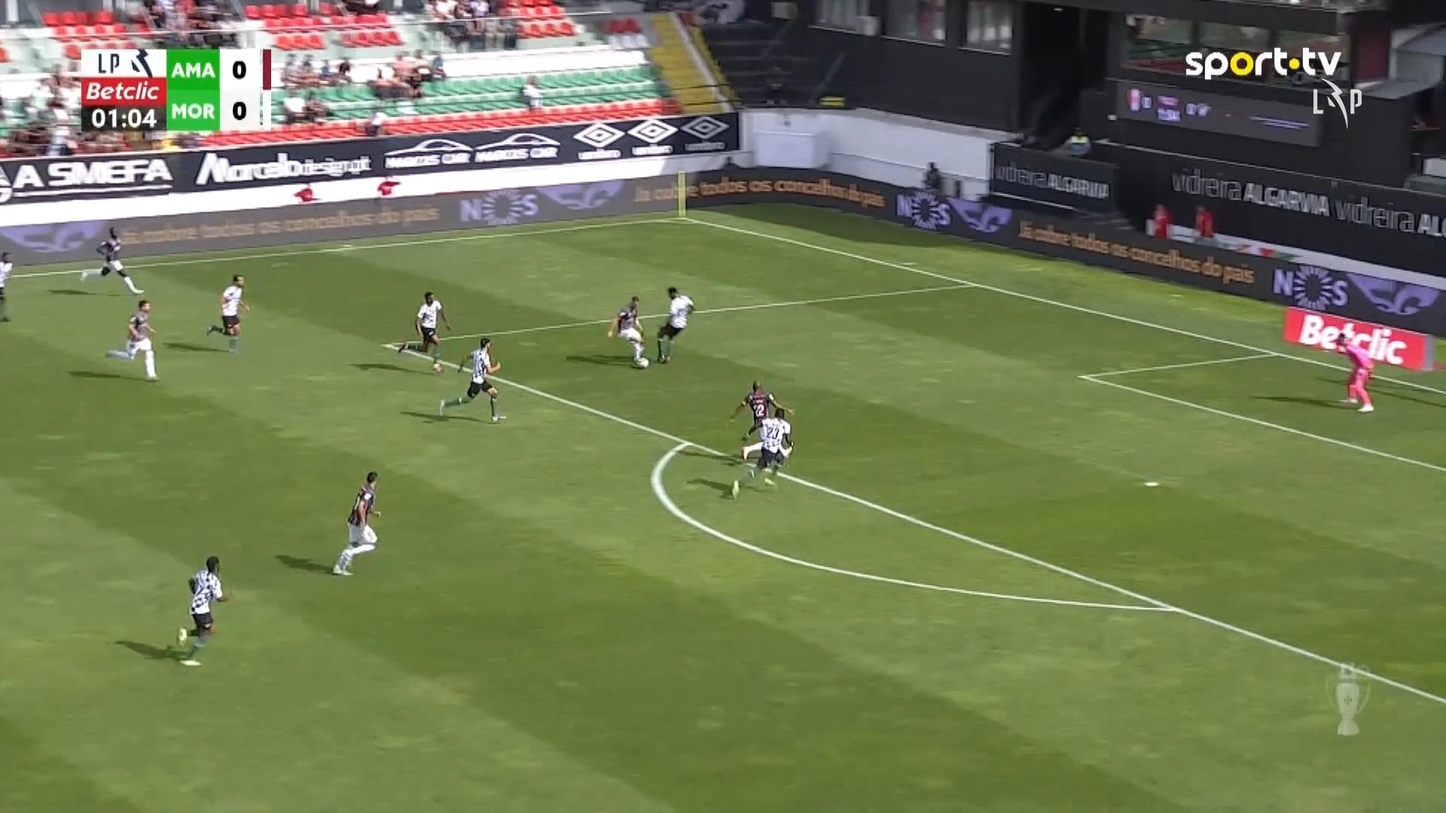ball: (638, 358, 649, 369)
goalkeeper: (1328, 330, 1375, 413)
player: (175, 555, 232, 665), (730, 406, 795, 498), (438, 336, 507, 422), (331, 470, 381, 576), (78, 226, 145, 295), (104, 299, 159, 381), (396, 290, 451, 372), (730, 379, 793, 444), (206, 273, 250, 352), (654, 285, 694, 363), (606, 295, 648, 368), (0, 250, 13, 321)
